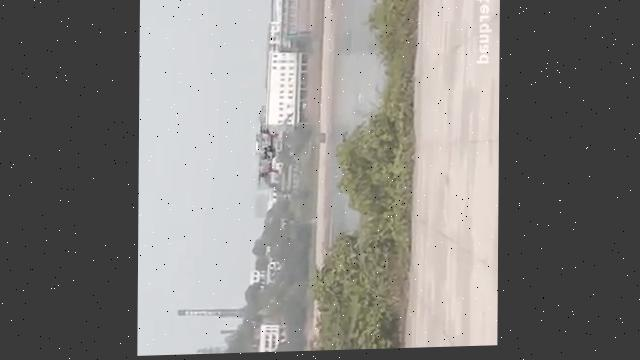drone: (252, 122, 282, 186)
